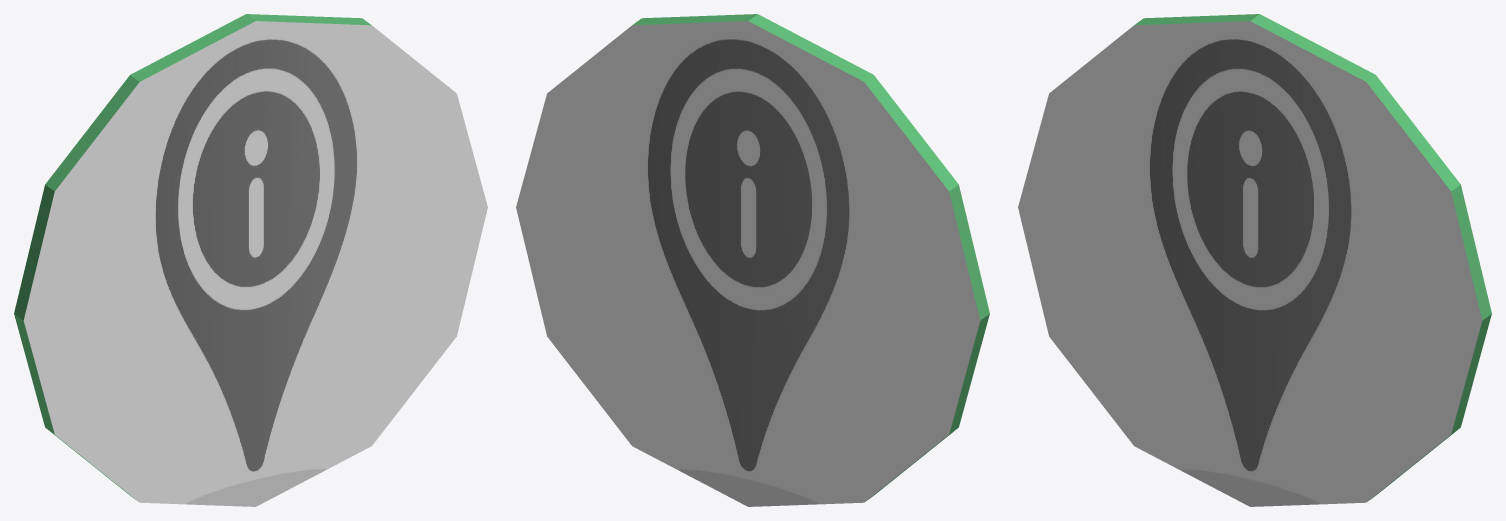
File: pinLoc.glb
The picture shows the model from 3 angles, left to right: view 1: azimuth 30°, elevation 25°; view 2: azimuth 150°, elevation 25°; view 3: azimuth 330°, elevation 25°; orthographic projection.
Bounding box in the file's own units: 40 × 40 × 1.44.
Materials: 2 (1 with a texture image).
